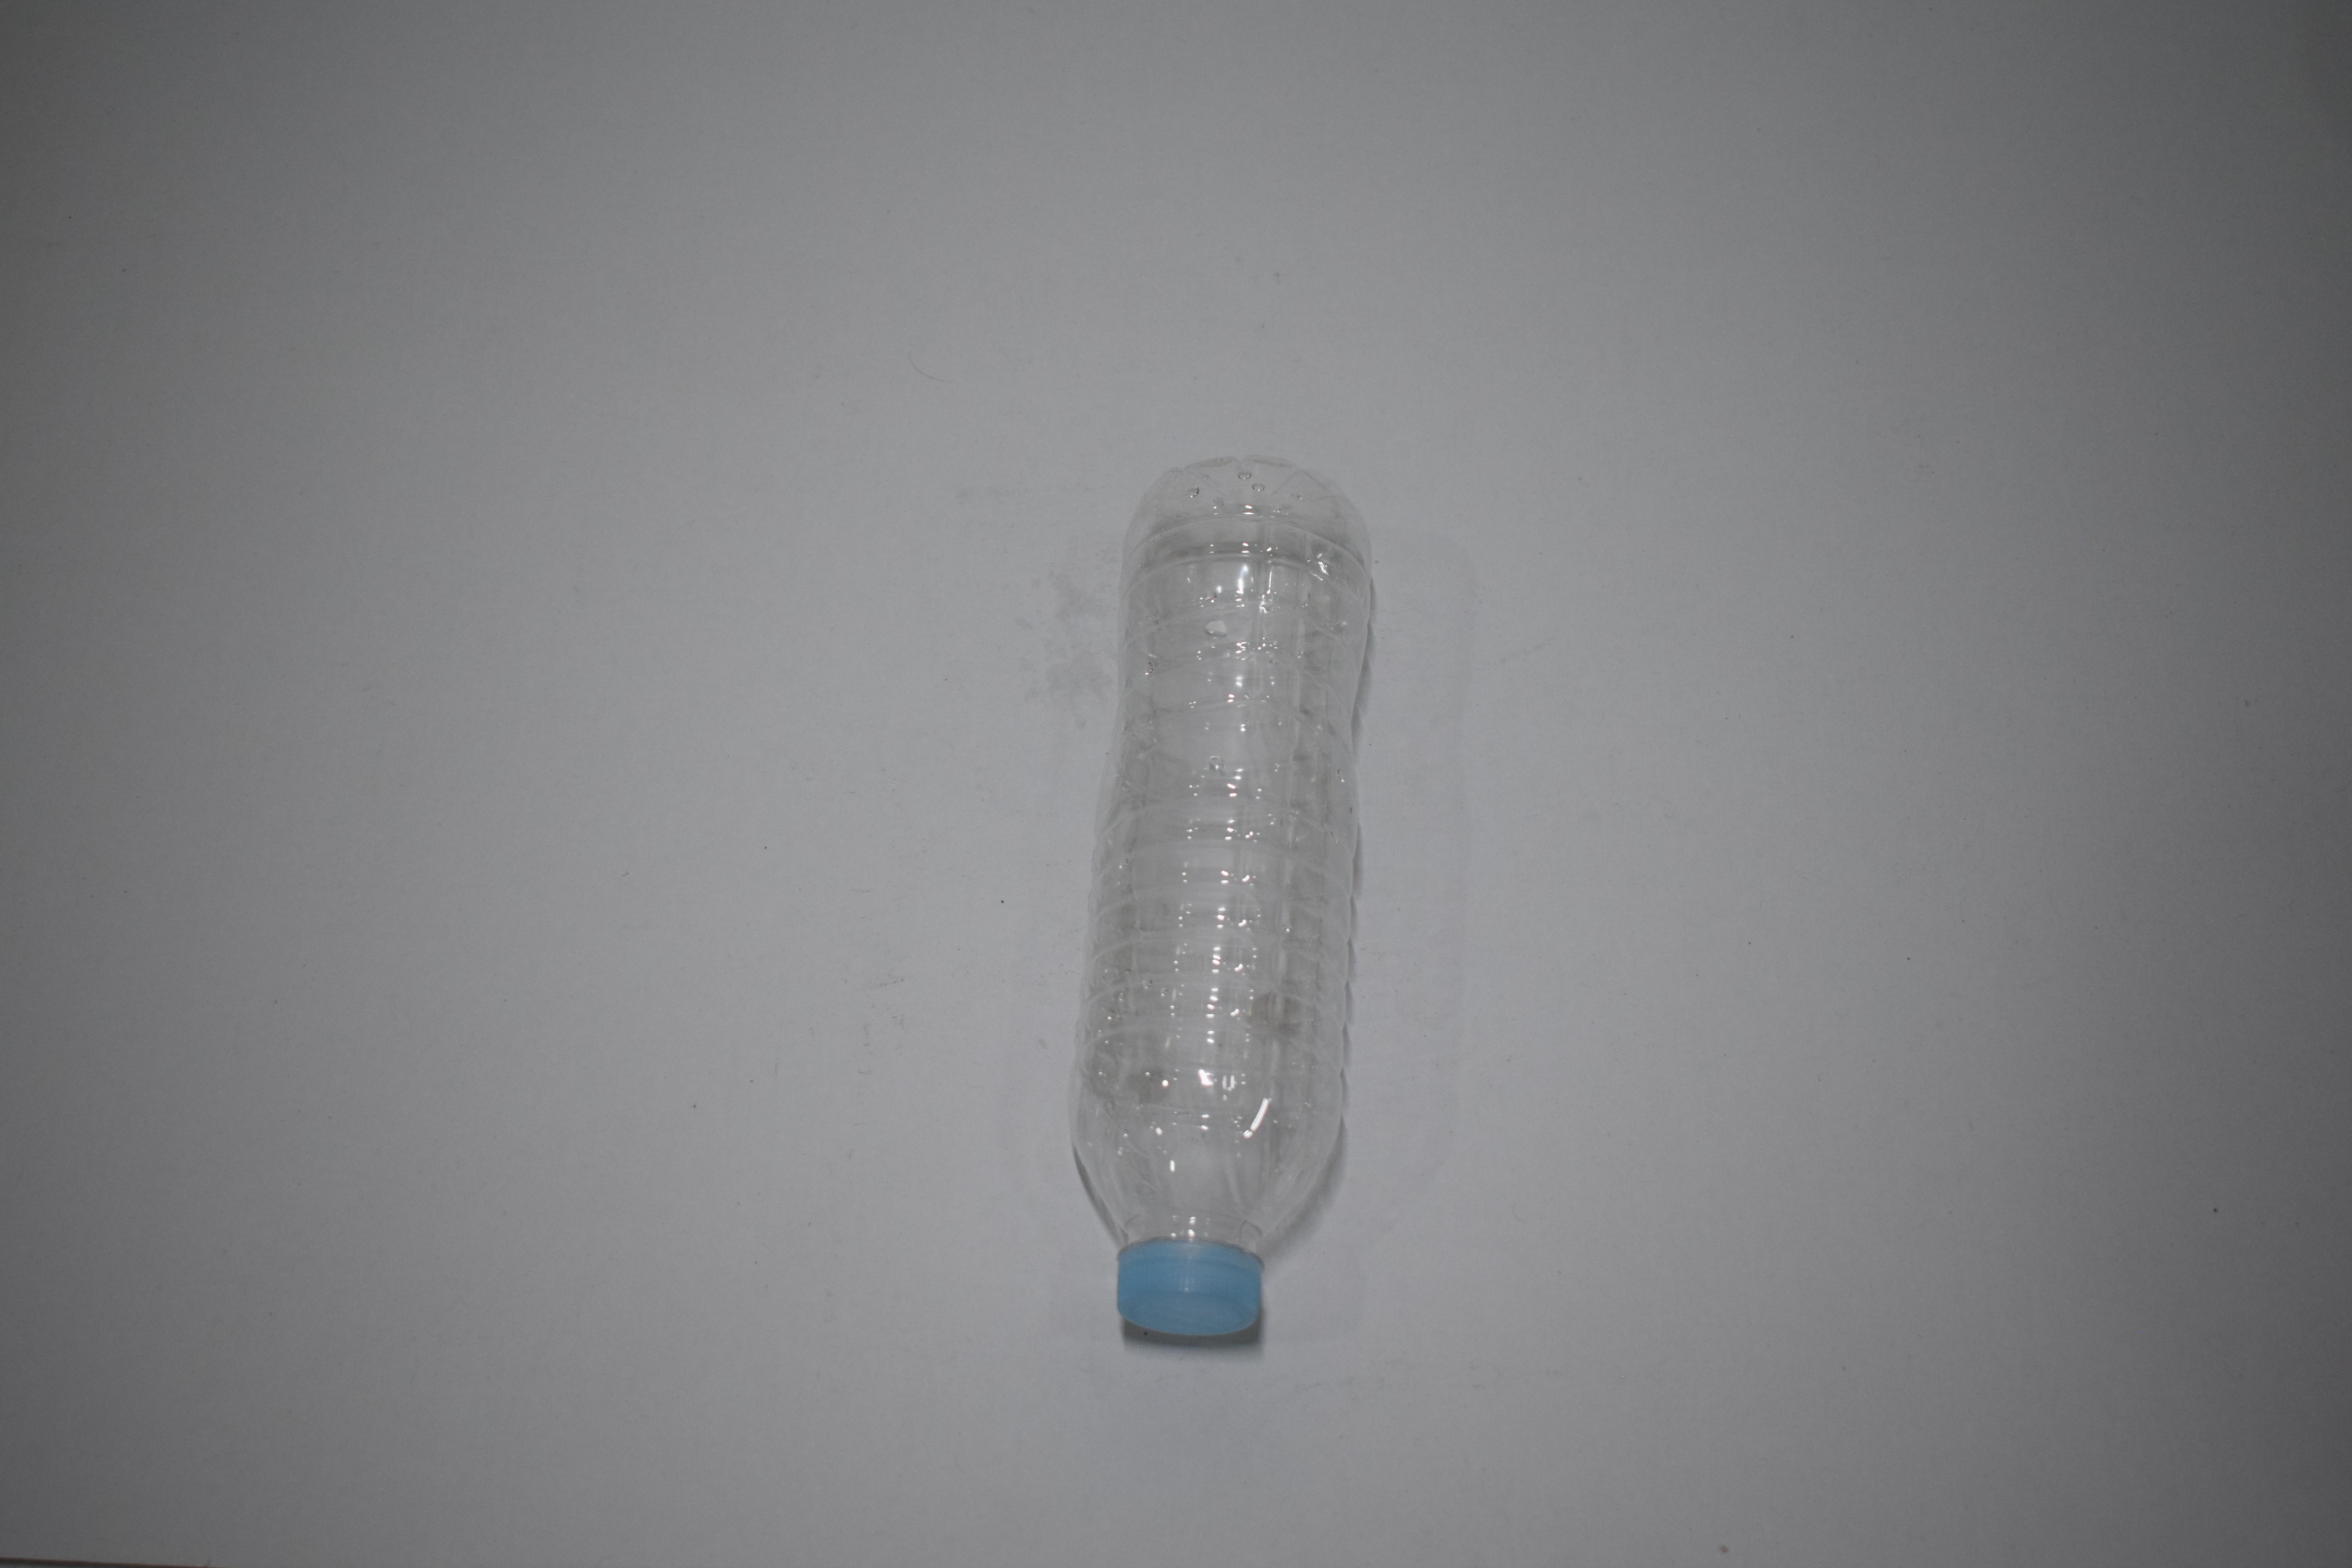bottle: (0, 51, 208, 180)
